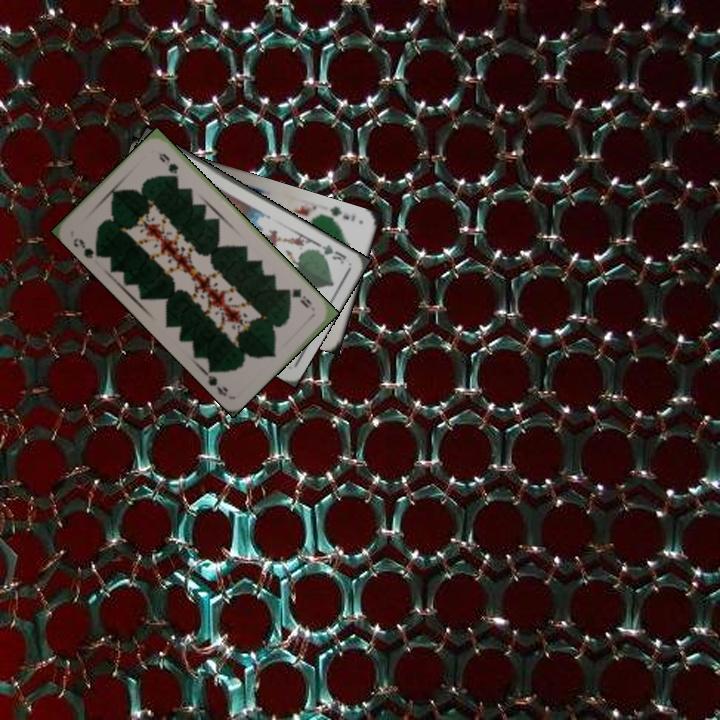G9: (69, 234, 103, 261), (283, 284, 314, 310)
GK: (311, 239, 349, 266), (322, 202, 358, 224)
